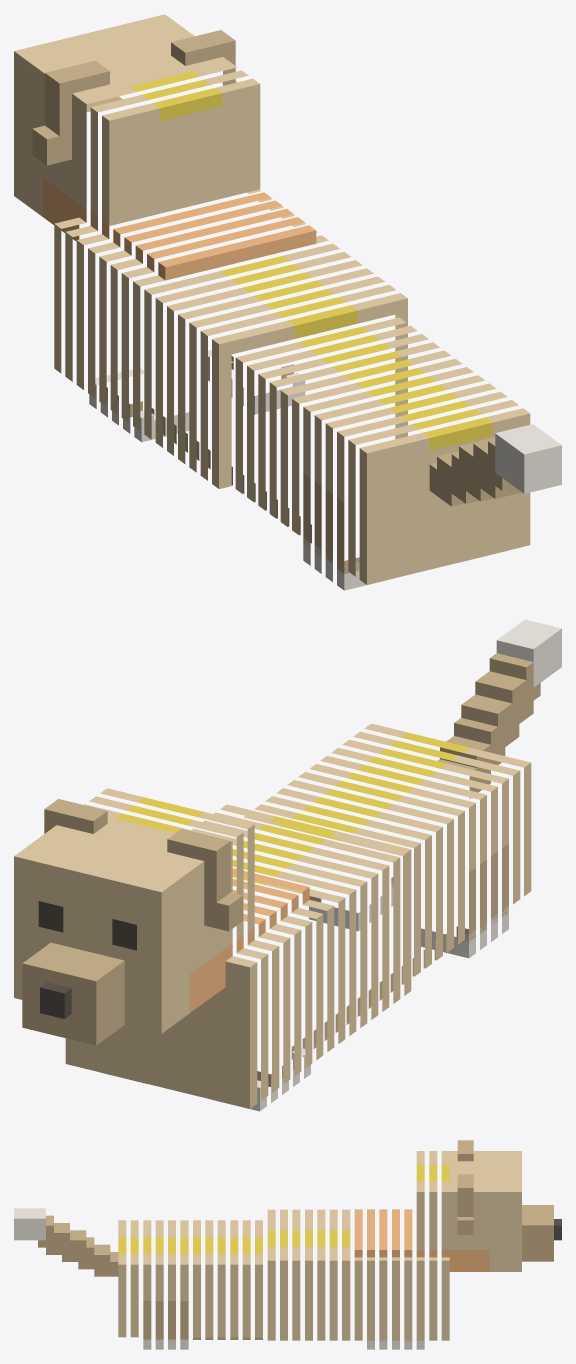
Rendered from dachshund.glb.
3 views of the same model, one above another, from view 1: azimuth 30°, elevation 25°; view 2: azimuth 150°, elevation 25°; view 3: azimuth 270°, elevation 25° (orthographic). The views are drawn at different scales.
Parts seen in each view (by area): view 1: root; view 2: root; view 3: root.
Part boxes in pixels (x1,y1,x2,y2): root: (14,14,561,590); root: (14,619,561,1111); root: (14,1140,561,1349).
Size of the model in its own units: 0.56 by 0.7938 by 2.39.
